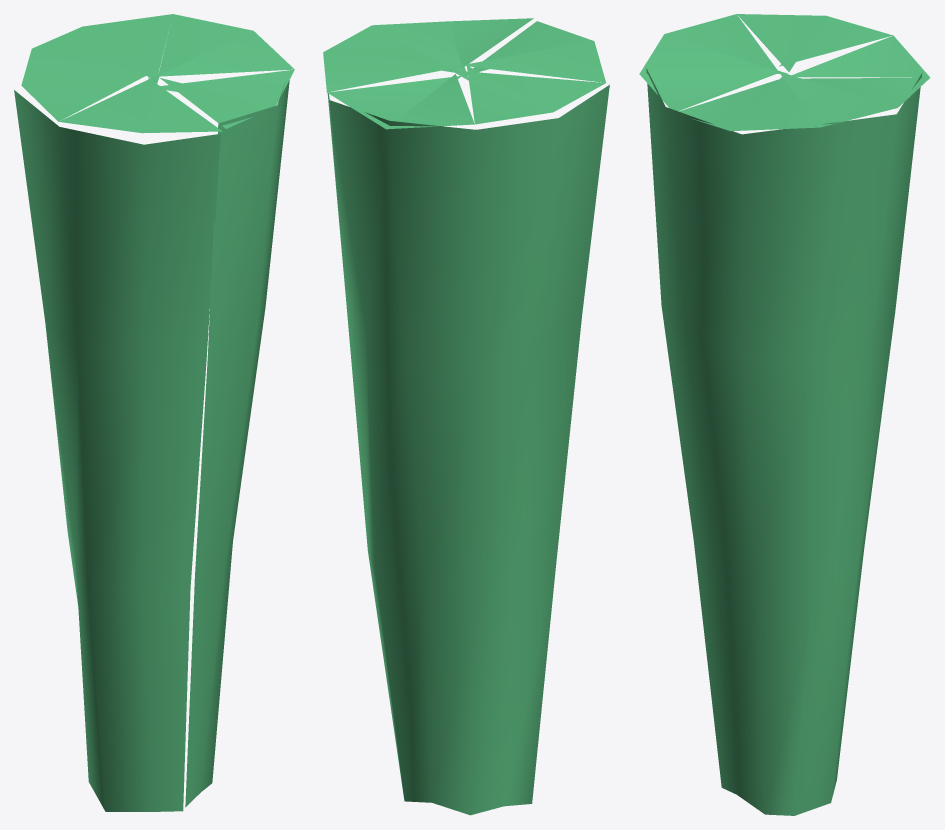
The model's file is java_fern.glb.
The picture shows the model from 3 angles, left to right: view 1: azimuth 30°, elevation 25°; view 2: azimuth 150°, elevation 25°; view 3: azimuth 270°, elevation 25°; orthographic projection.
Parts seen in each view (by area): view 1: java_fern; view 2: java_fern; view 3: java_fern.
Part boxes in pixels (x1=…): java_fern: x1=14, y1=14, x2=294, y2=811; java_fern: x1=323, y1=18, x2=609, y2=815; java_fern: x1=639, y1=14, x2=930, y2=815.
Size of the model in its own units: 0.3536 by 1.02 by 0.3728.
